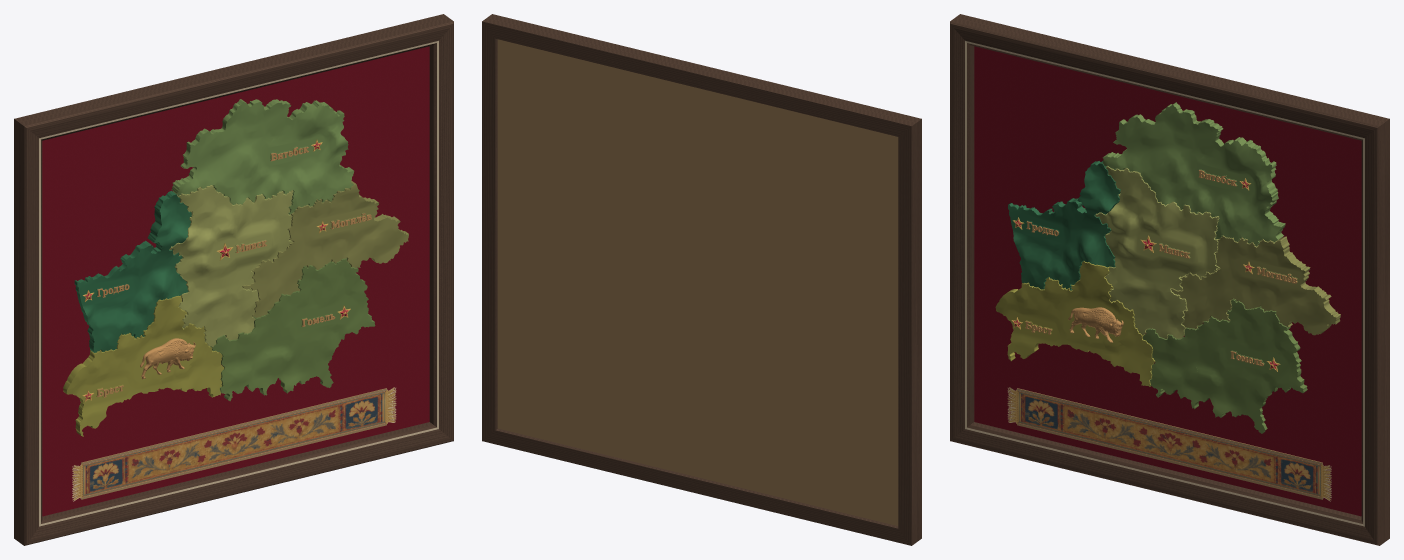
Rendered from panel-cpu.glb.
3 views of the same model, side by side, from view 1: azimuth 30°, elevation 25°; view 2: azimuth 150°, elevation 25°; view 3: azimuth 330°, elevation 25° (orthographic).
Visible parts, largest first — view 1: Велюр, Рельеф · Витебская область, Верхняя рейка, Орнаментальная лента, Рельеф · Минская область, Рельеф · Гомельская область, Левая рейка, Нижняя рейка, Правая рейка, Рельеф · Брестская область, Рельеф · Могилёвская область, Рельеф · Гродненская область (+1 smaller); view 2: Задник · фанера 420 × 390 × 6, Верхняя рейка, Левая рейка, Нижняя рейка, Правая рейка; view 3: Велюр, Рельеф · Витебская область, Верхняя рейка, Орнаментальная лента, Рельеф · Гомельская область, Рельеф · Минская область, Правая рейка, Нижняя рейка, Левая рейка, Рельеф · Могилёвская область, Рельеф · Брестская область, Рельеф · Гродненская область (+1 smaller).
Part boxes in pixels (x1,y1,x2,y2): Велюр: [42, 46, 429, 516]; Рельеф · Витебская область: [171, 99, 354, 214]; Верхняя рейка: [14, 14, 453, 140]; Орнаментальная лента: [72, 387, 396, 501]; Рельеф · Минская область: [169, 185, 293, 346]; Рельеф · Гомельская область: [210, 258, 375, 401]; Левая рейка: [14, 119, 42, 545]; Нижняя рейка: [25, 422, 453, 545]; Правая рейка: [429, 22, 453, 440]; Рельеф · Брестская область: [63, 295, 224, 436]; Рельеф · Могилёвская область: [242, 180, 408, 317]; Рельеф · Гродненская область: [74, 190, 191, 352]; Задник · фанера 420 × 390 × 6: [497, 39, 898, 525]; Верхняя рейка: [482, 14, 921, 136]; Левая рейка: [898, 119, 921, 545]; Нижняя рейка: [482, 428, 911, 545]; Правая рейка: [482, 22, 497, 440]; Велюр: [974, 46, 1361, 516]; Рельеф · Витебская область: [1102, 102, 1285, 246]; Верхняя рейка: [950, 14, 1389, 140]; Орнаментальная лента: [1007, 387, 1331, 501]; Рельеф · Гомельская область: [1142, 298, 1307, 433]; Рельеф · Минская область: [1095, 166, 1219, 338]; Правая рейка: [1361, 119, 1389, 545]; Нижняя рейка: [950, 422, 1378, 545]; Левая рейка: [950, 22, 974, 440]; Рельеф · Могилёвская область: [1171, 235, 1340, 335]; Рельеф · Брестская область: [995, 261, 1155, 386]; Рельеф · Гродненская область: [1008, 161, 1120, 290].
Size of the model in its own units: 0.45 by 0.42 by 0.0236.
Materials: 15 (3 with a texture image).
